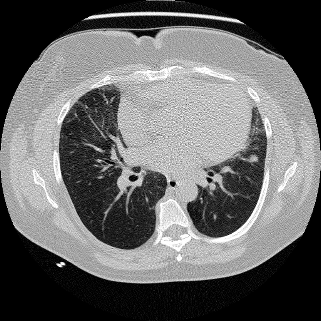nodule: (251, 154, 259, 162)
